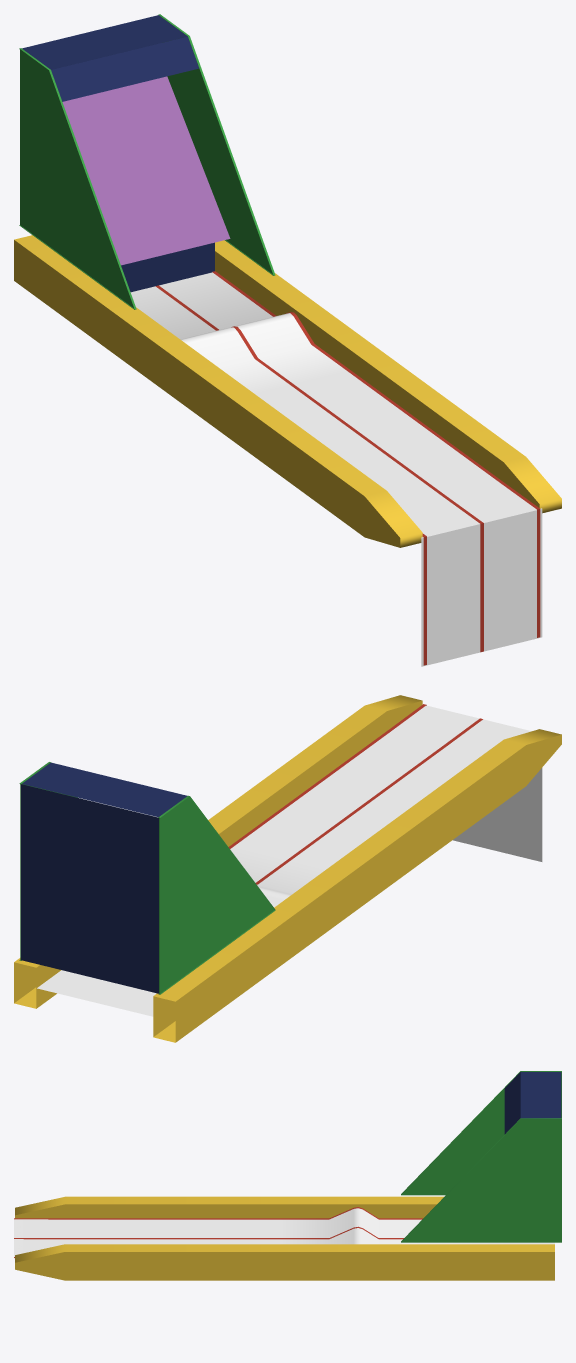
The model's file is GAMEBOARD.dae.
3 renders of one model, top to bottom at view 1: azimuth 30°, elevation 25°; view 2: azimuth 150°, elevation 25°; view 3: azimuth 270°, elevation 25°, orthographic. The views are drawn at different scales.
Visible parts, largest first — view 1: Cube.2; view 2: Cube.2; view 3: Cube.2.
Boxes of the visible parts, x1=… form: Cube.2: x1=14, y1=14, x2=561, y2=666; Cube.2: x1=14, y1=695, x2=561, y2=1042; Cube.2: x1=14, y1=1071, x2=561, y2=1280.
Bounding box in the file's own units: 665 × 1313 × 2797.
